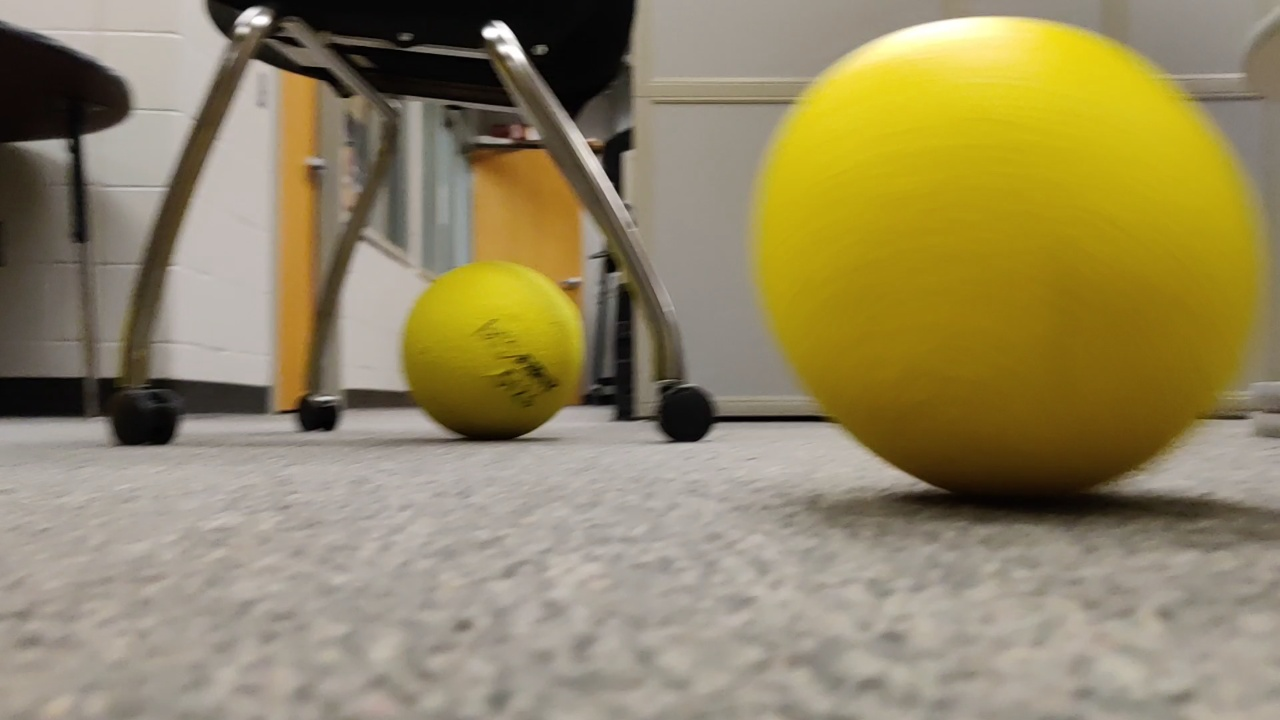Ball: (751, 13, 1259, 516), (401, 262, 583, 439)
